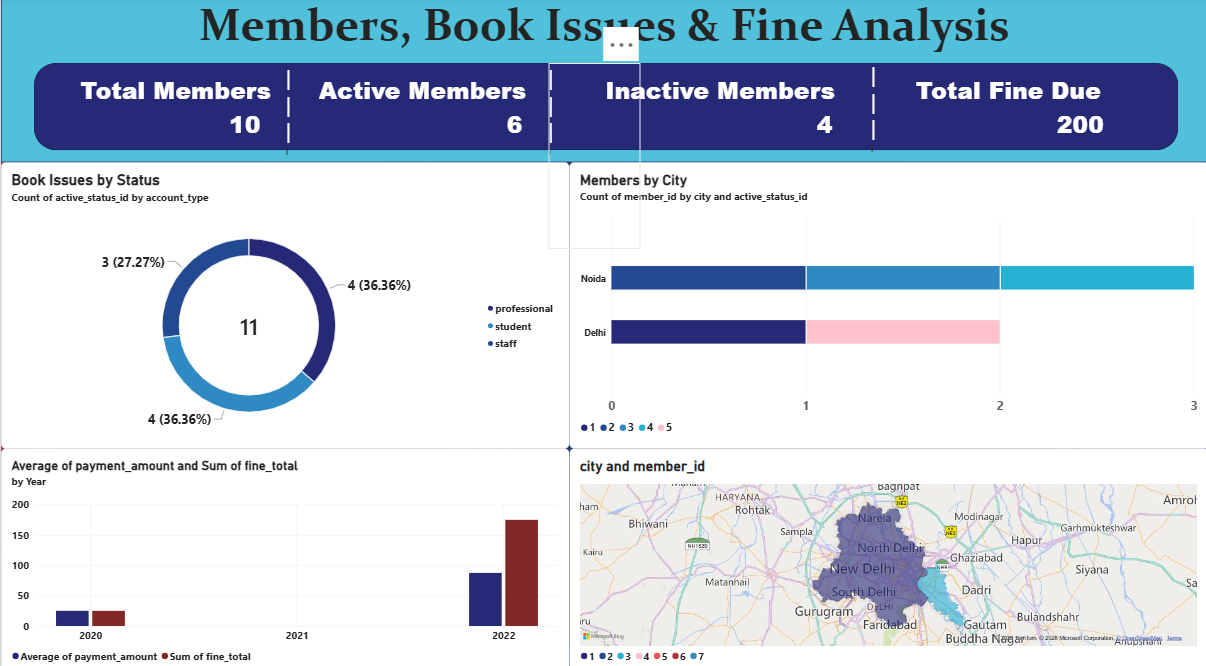

This screenshot's page, from the dashboard's own definition file:
{"tool":"powerbi","page":{"name":"Members,Book Issues & Fine Analysis","canvas":[1920,1080],"ordinal":2},"visuals":[{"type":"donutChart","title":"Book Issues by Status","fields":{"Category":["lib_mngmt_system tbl_member_status.account_type"],"Y":["CountNonNull(lib_mngmt_system tbl_member_status.active_status_id)"]},"box":[0,262.5,904.3,455.7],"z":0},{"type":"barChart","title":"Members by City","fields":{"Category":["lib_mngmt_system tbl_member.city"],"Series":["lib_mngmt_system tbl_member_status.active_status_id"],"Y":["CountNonNull(lib_mngmt_system tbl_book_request.member_id)"]},"box":[904.3,262.5,1016.4,455.7],"z":1000},{"type":"clusteredColumnChart","fields":{"Category":["lib_mngmt_system tbl_member_status.membership_end_date.Variation.Date Hierarchy.Year"],"Y":["Avg(lib_mngmt_system tbl_fine_payment.payment_amount)","Sum(lib_mngmt_system tbl_fine_due.fine_total)"]},"box":[0,718.2,904.3,362.7],"z":2000},{"type":"filledMap","fields":{"Category":["lib_mngmt_system tbl_member.city"],"Series":["lib_mngmt_system tbl_book_issue.member_id"]},"box":[904.3,718.2,1016.4,362.7],"z":3000},{"type":"shape","box":[0,0,1921,262.9],"z":4000},{"type":"shape","box":[52,104,1819.9,138.7],"z":5000},{"type":"textbox","box":[314.9,0,1606.1,242.7],"z":6000},{"type":"textbox","box":[127.1,121.3,378.4,277.3],"z":7000},{"type":"textbox","box":[505.5,121.3,511.3,277.3],"z":8000},{"type":"textbox","box":[961.9,121.3,421.8,277.3],"z":9000},{"type":"textbox","box":[1455.9,121.3,416,277.3],"z":10000},{"type":"textbox","box":[453.3,105,93.1,193.3],"z":11000},{"type":"textbox","box":[870.9,105,145.5,295.9],"z":12000},{"type":"textbox","box":[1383.8,100.2,71.6,300.6],"z":13000}]}

Visuals, with their boxes in screenshot pixels (x1, y1, x2, y2), scaled from the page's 1920x1080 canvas onto the 1206x666 screenshot:
"Book Issues by Status" donutChart: (left=0, top=162, right=568, bottom=443)
"Members by City" barChart: (left=568, top=162, right=1205, bottom=443)
clusteredColumnChart - lib_mngmt_system tbl_member_status.membership_end_date.Variation.Date Hierarchy.Year x Avg(lib_mngmt_system tbl_fine_payment.payment_amount): (left=0, top=443, right=568, bottom=665)
filledMap - lib_mngmt_system tbl_member.city x lib_mngmt_system tbl_book_issue.member_id: (left=568, top=443, right=1205, bottom=665)
shape: (left=0, top=0, right=1205, bottom=162)
shape: (left=33, top=64, right=1176, bottom=150)
textbox: (left=198, top=0, right=1205, bottom=150)
textbox: (left=80, top=75, right=318, bottom=246)
textbox: (left=318, top=75, right=639, bottom=246)
textbox: (left=604, top=75, right=869, bottom=246)
textbox: (left=914, top=75, right=1176, bottom=246)
textbox: (left=285, top=65, right=343, bottom=184)
textbox: (left=547, top=65, right=638, bottom=247)
textbox: (left=869, top=62, right=914, bottom=247)
